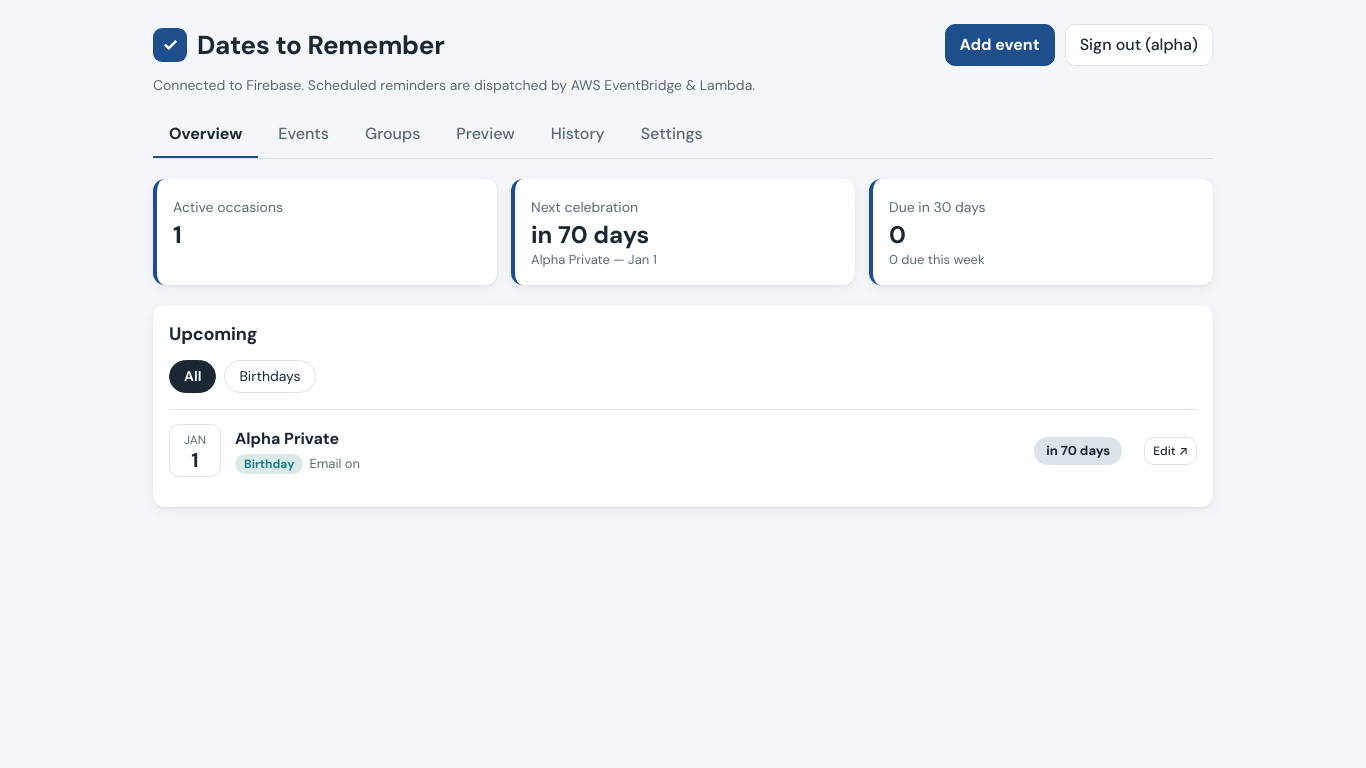
Test: ignores a save response completed after switching accounts
Expected: the text "Alpha Private" is shown, x1=235 y1=428 x2=339 y2=449
Click the button with aria-label "Edit Alpha Private". click: (1171, 451)
box: x1=1144 y1=437 x2=1197 y2=465
(page scrolled)
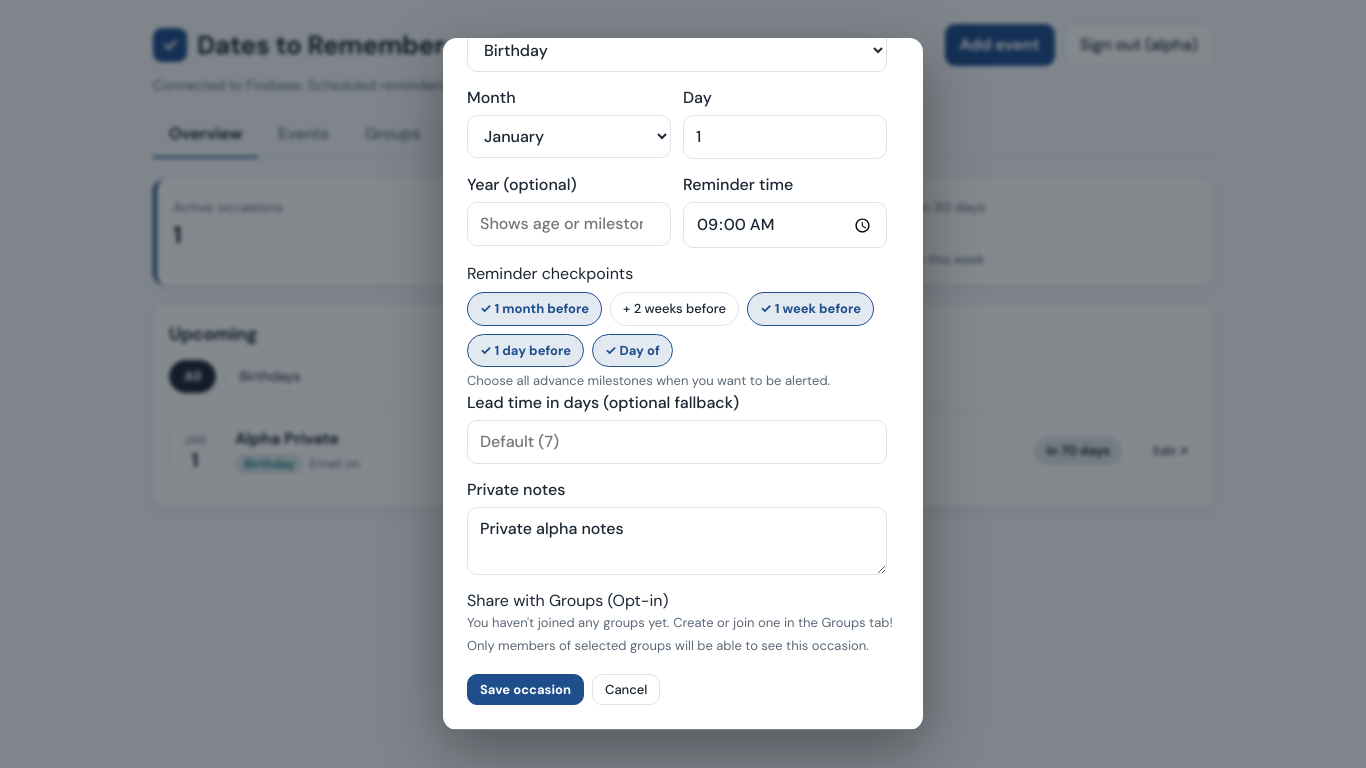
Click the button "Save occasion". click: (526, 690)
box: x1=467 y1=674 x2=584 y2=705
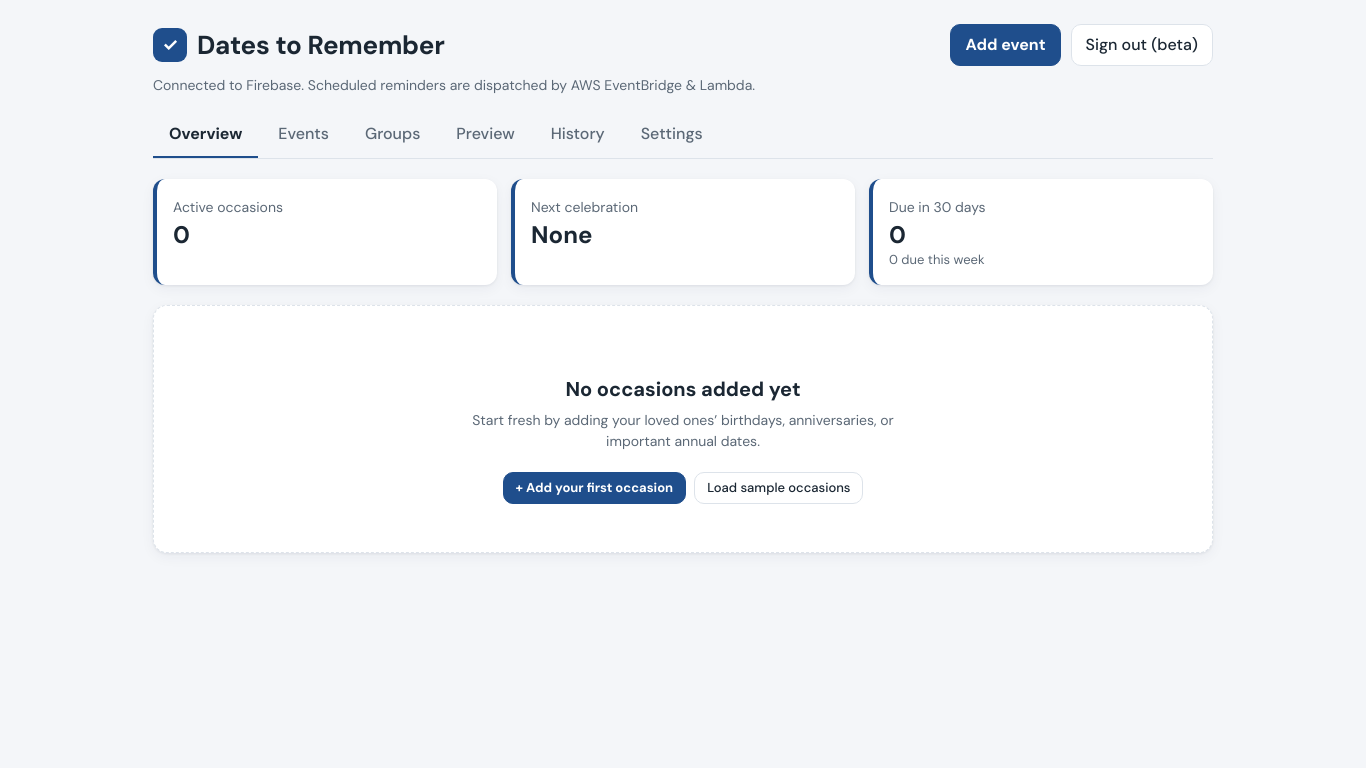
Now the label labelled "Private notes" is gone
